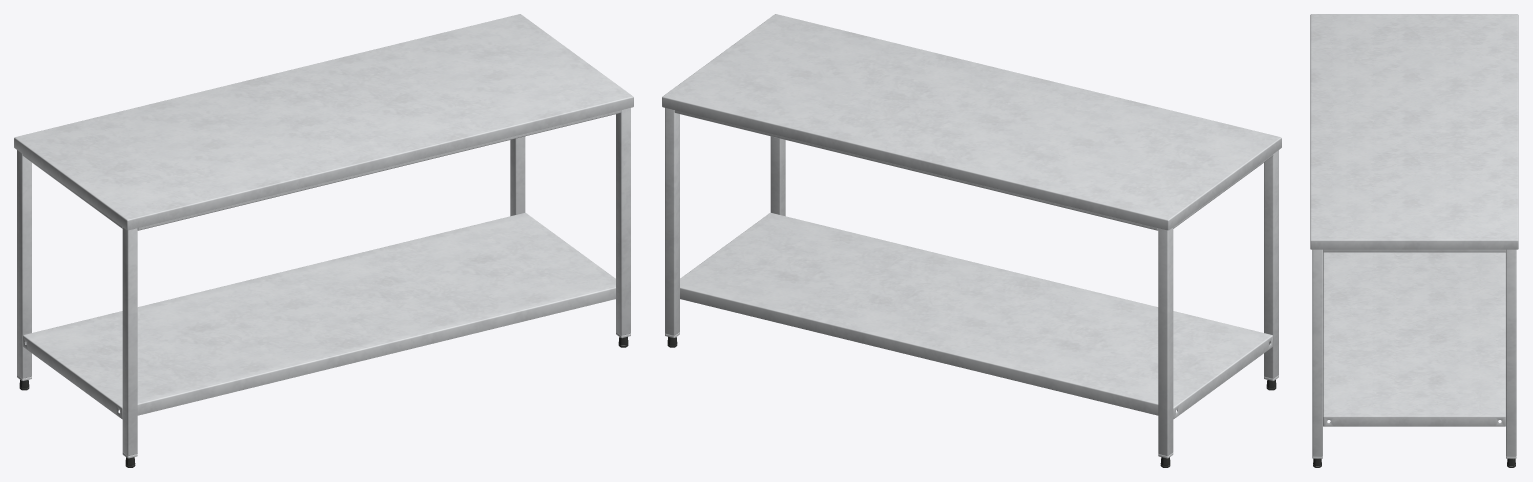
The model's file is table_metal_stainless_a03.glb.
The picture shows the model from 3 angles, left to right: view 1: azimuth 30°, elevation 25°; view 2: azimuth 150°, elevation 25°; view 3: azimuth 270°, elevation 25°; orthographic projection. The views are drawn at different scales.
Parts seen in each view (by area): view 1: table_metal_stainless_a03_lod1; view 2: table_metal_stainless_a03_lod1; view 3: table_metal_stainless_a03_lod1.
Part boxes in pixels (x1,y1,x2,y2): table_metal_stainless_a03_lod1: (14, 14, 633, 467); table_metal_stainless_a03_lod1: (662, 14, 1281, 467); table_metal_stainless_a03_lod1: (1310, 14, 1518, 467).
Bounding box in the file's own units: 1.8 × 0.85 × 0.6989.
1 material, 1 textured.
